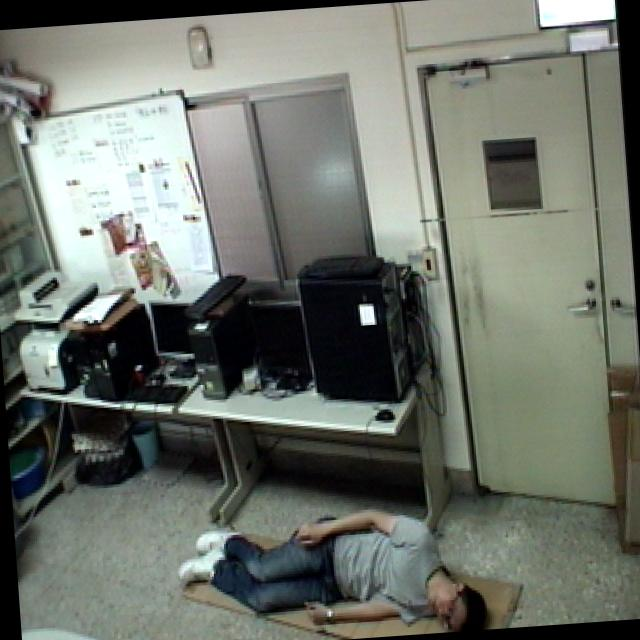lie: (173, 485, 492, 640)
